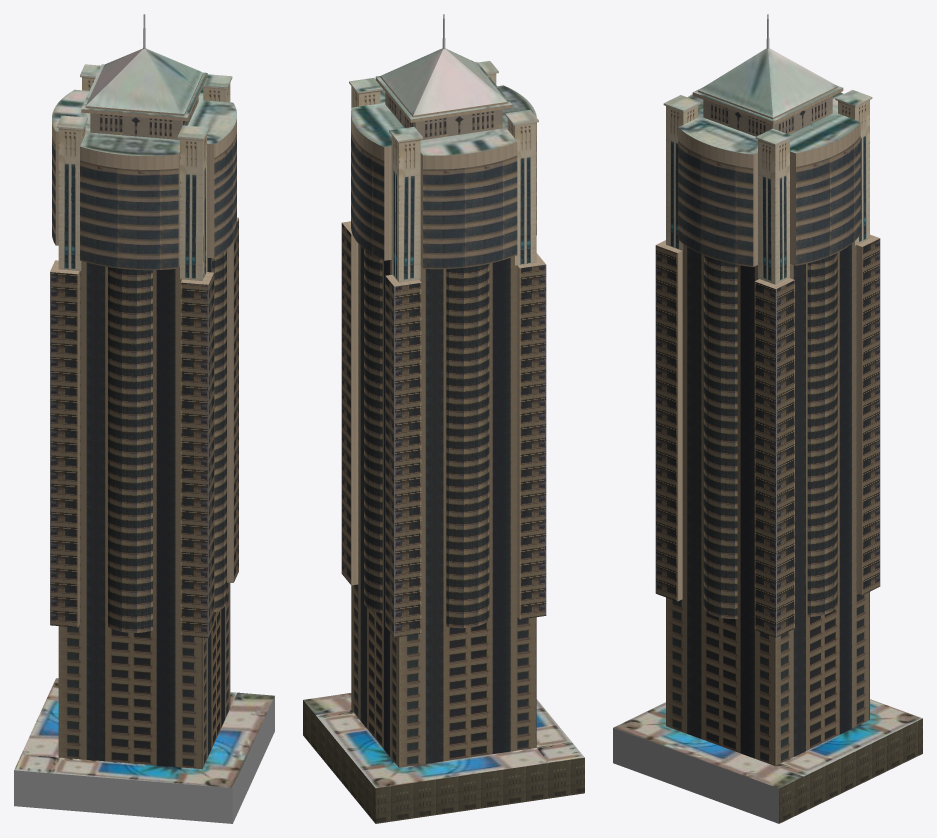
Rendered from Sin (2).fbx.
The picture shows the model from 3 angles, left to right: view 1: azimuth 30°, elevation 25°; view 2: azimuth 150°, elevation 25°; view 3: azimuth 270°, elevation 25°; orthographic projection.
Visible parts, largest first — view 1: Model; view 2: Model; view 3: Model.
Boxes of the visible parts, x1,y1,x2,y2 form: Model: (14,14,274,823); Model: (303,14,584,823); Model: (613,14,922,823).
Size of what is drawn, in the model's own units: 82.29 by 218 by 82.29.
